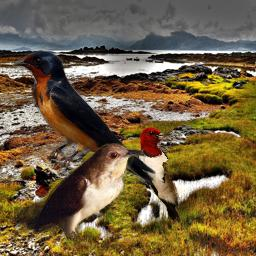Cuckoo: (14, 143, 146, 239)
Swallow: (11, 51, 156, 185)
Woodpecker: (136, 127, 179, 220)
